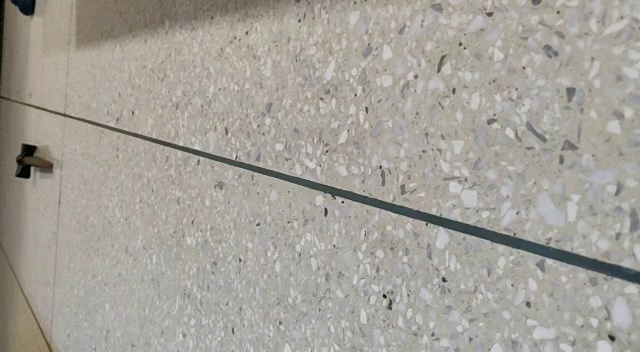hammer: (14, 143, 55, 180)
